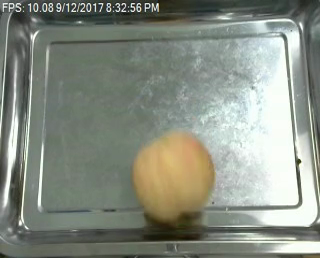Peach: (133, 130, 214, 222)
